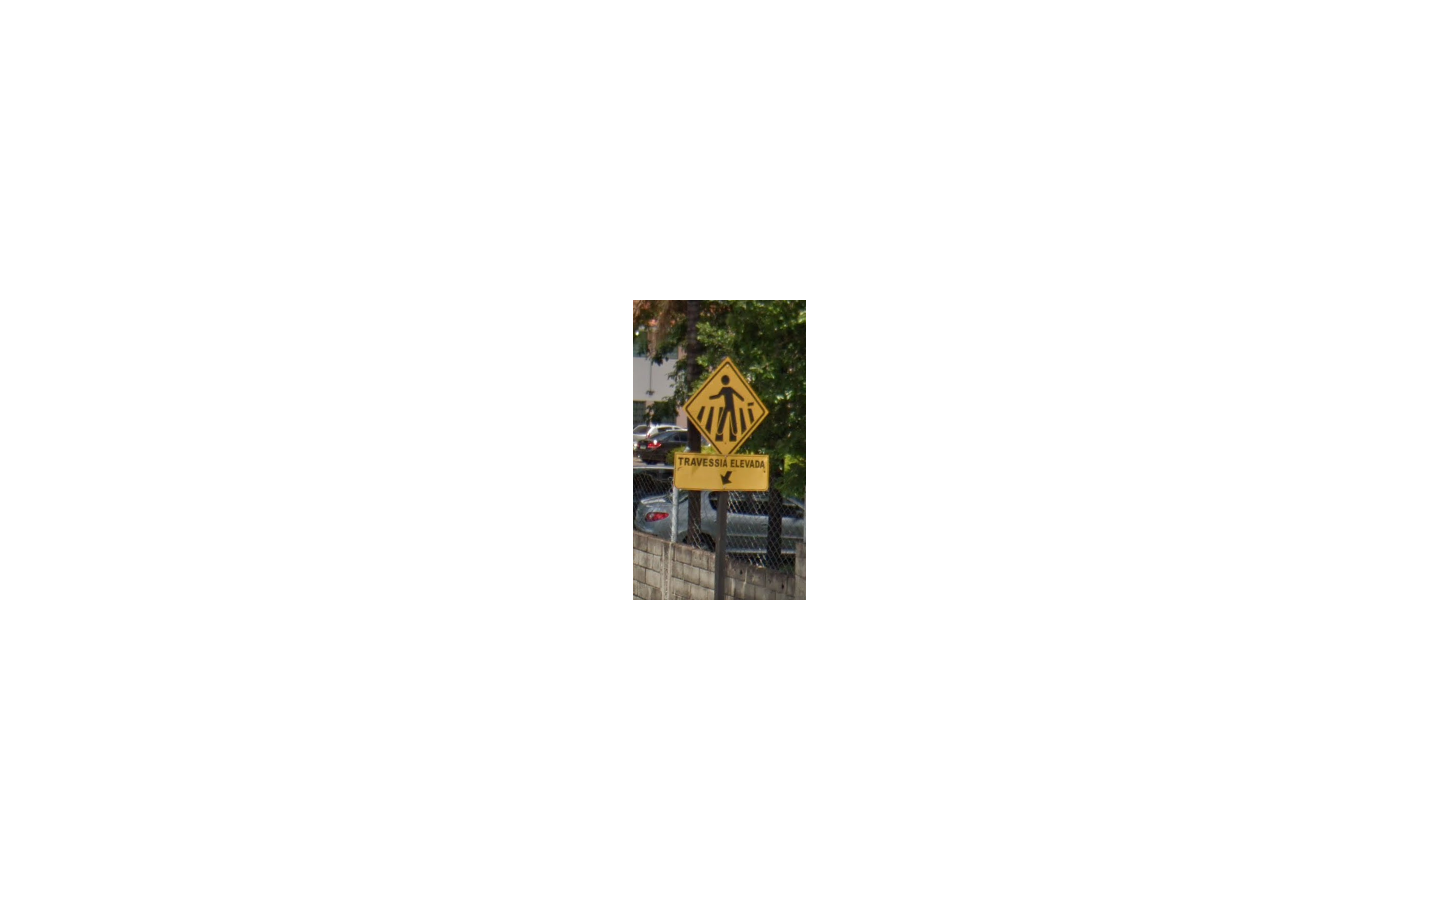telev: (674, 357, 768, 491)
